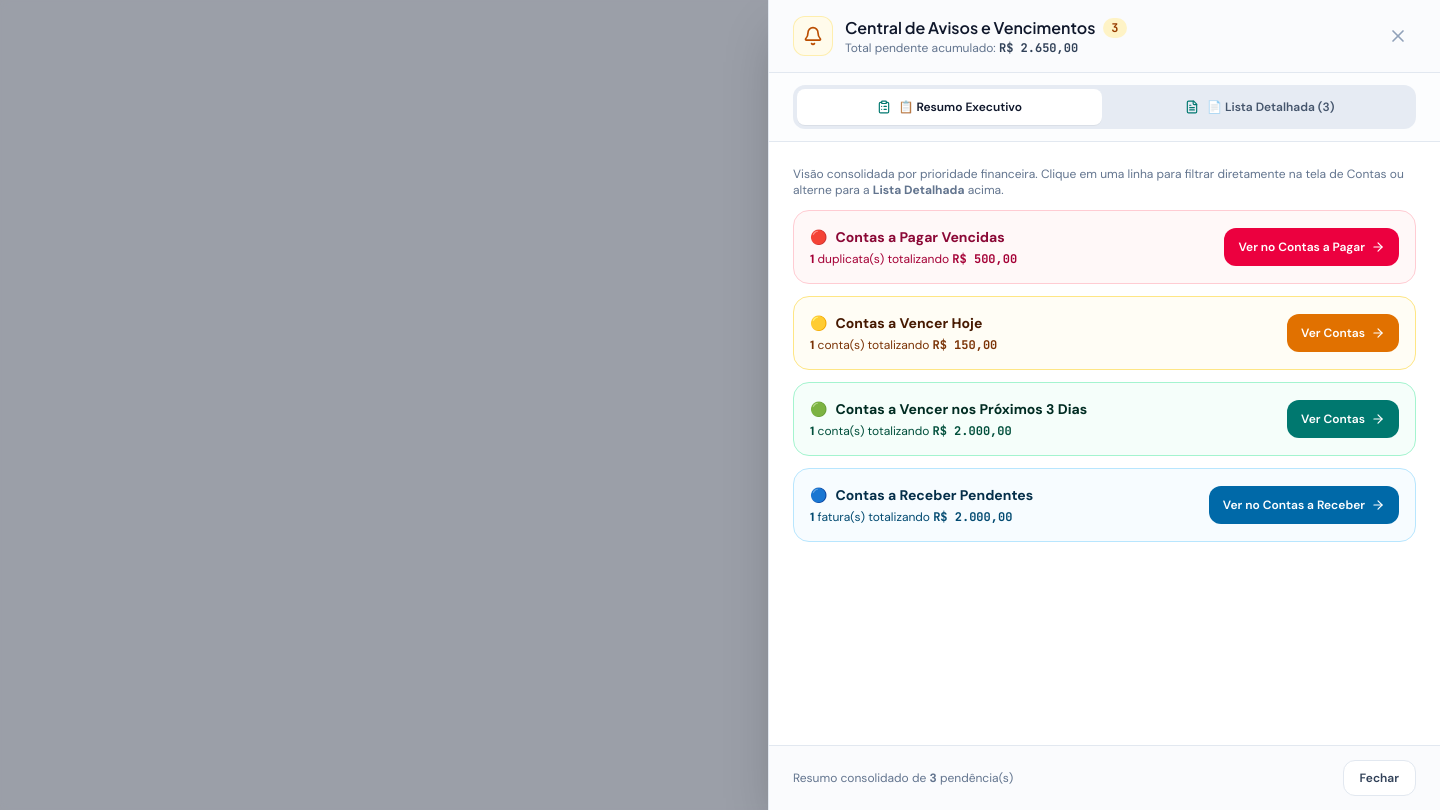
Test: AlertsDrawer › switches to Detailed List mode, filters by overdue, and triggers quick settlement
The width and height of the screenshot is (1440, 810).
Later steps or results of the test are not shown.
Note: Switch segmented control to [ 📄 Lista Detalhada ]
Click the tab with test id "alerts-mode-detailed". click: (1260, 107)
box: [1108,89,1412,125]
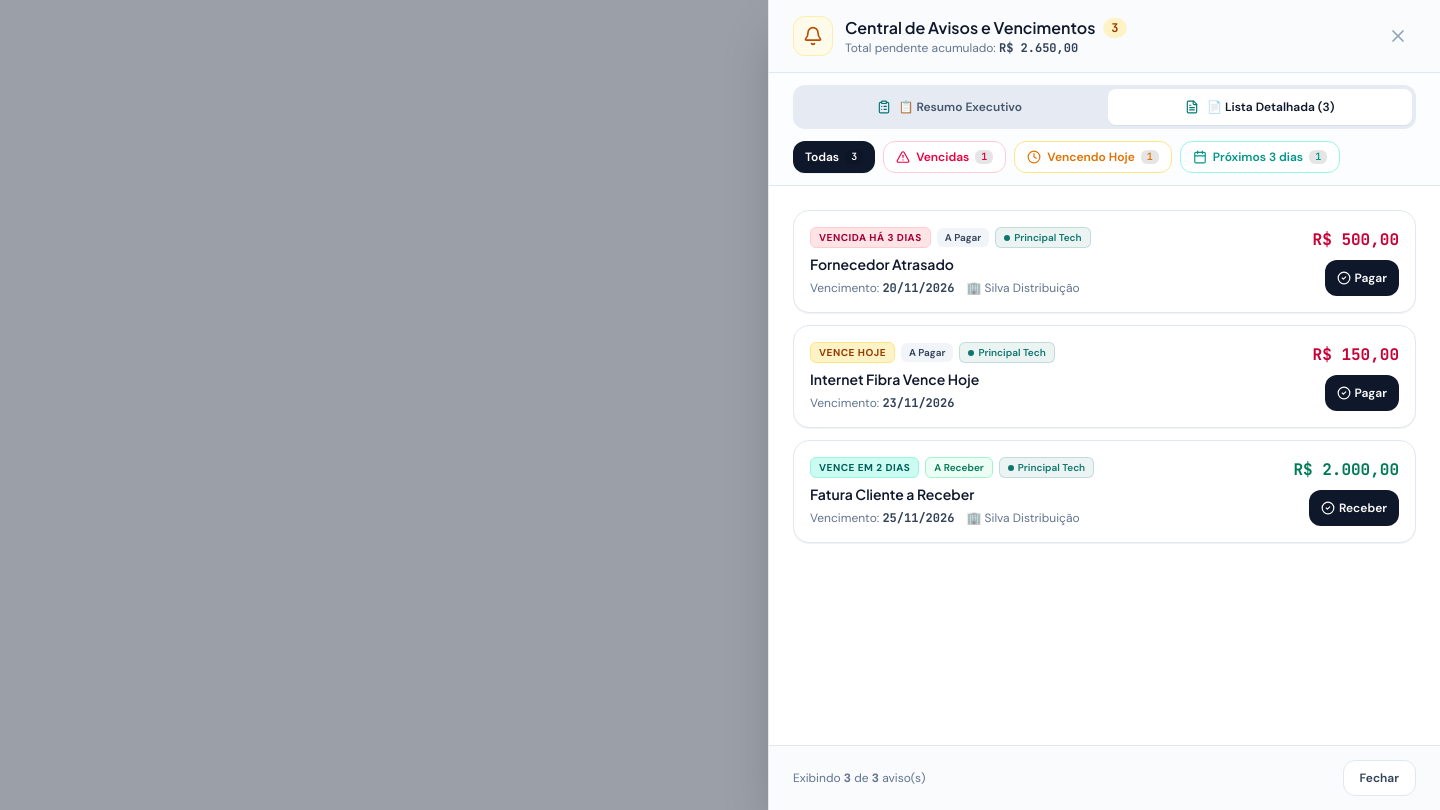
Now the heading "Fornecedor Atrasado" is shown, box [810,255,954,273]
Now the heading "Internet Fibra Vence Hoje" is shown, box [810,370,979,388]
Now the heading "Fatura Cliente a Receber" is shown, box [810,485,974,503]
Note: Filter by Vencidas
Click the button with test id "alerts-filter-overdue". click: (945, 157)
box: [883,141,1006,173]
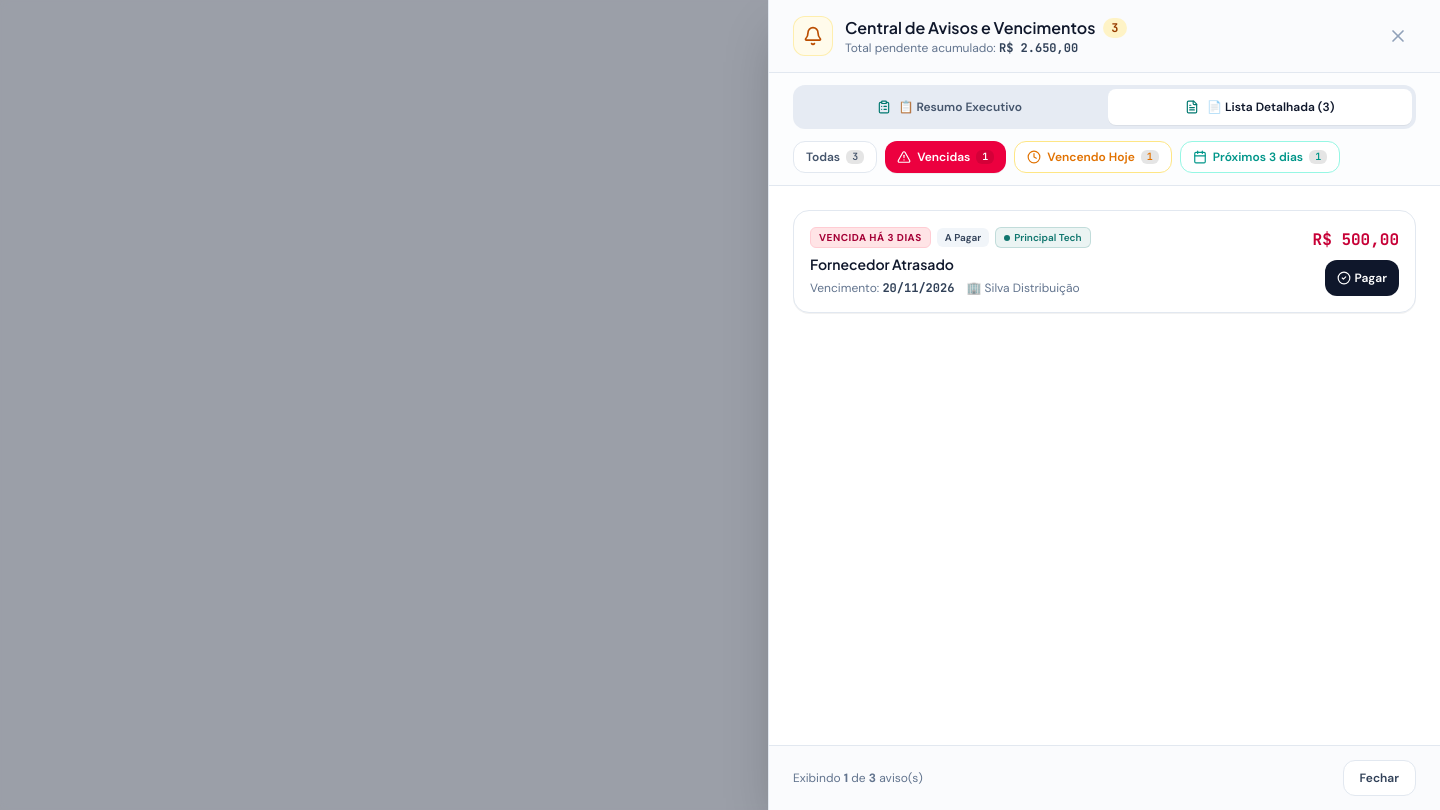
Now the heading "Fornecedor Atrasado" is shown, box [810,255,954,273]
Now the heading "Internet Fibra Vence Hoje" is gone
Now the heading "Fatura Cliente a Receber" is gone
